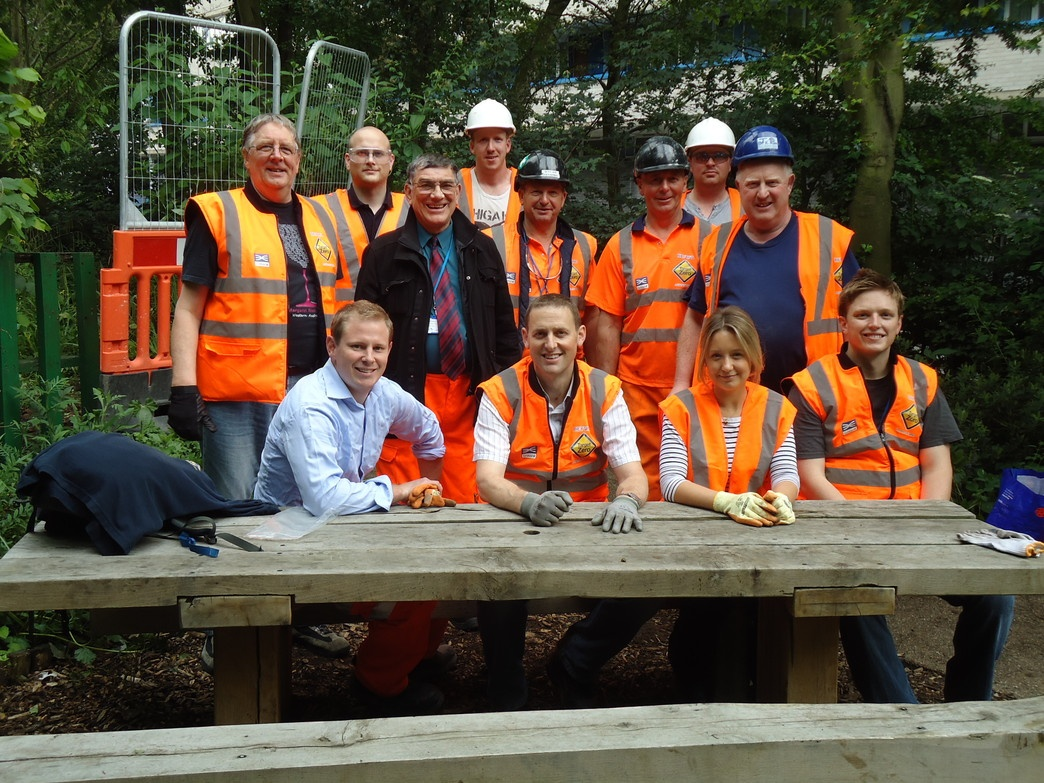blue: (726, 126, 799, 222), (509, 144, 578, 228), (625, 133, 691, 214)
none: (322, 293, 400, 389), (835, 265, 904, 359), (515, 292, 587, 381), (693, 307, 762, 394), (236, 114, 304, 201), (402, 153, 462, 228), (340, 123, 393, 194)
white: (679, 116, 739, 189), (461, 96, 517, 173)
